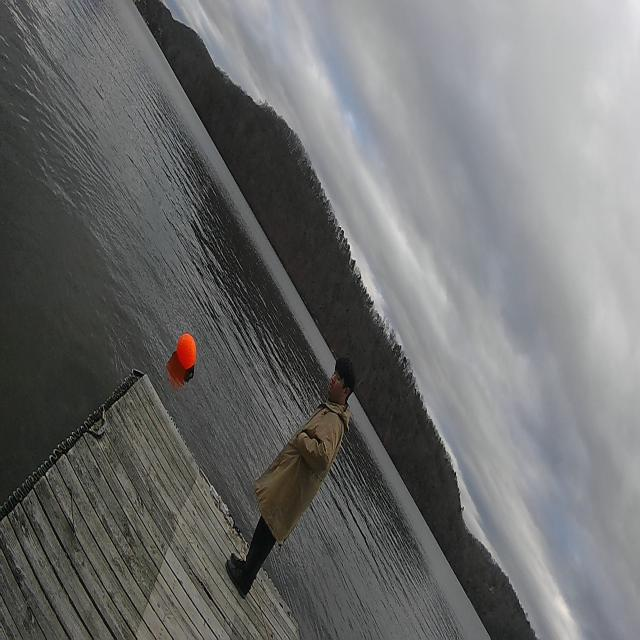Buoy: (174, 328, 198, 385)
